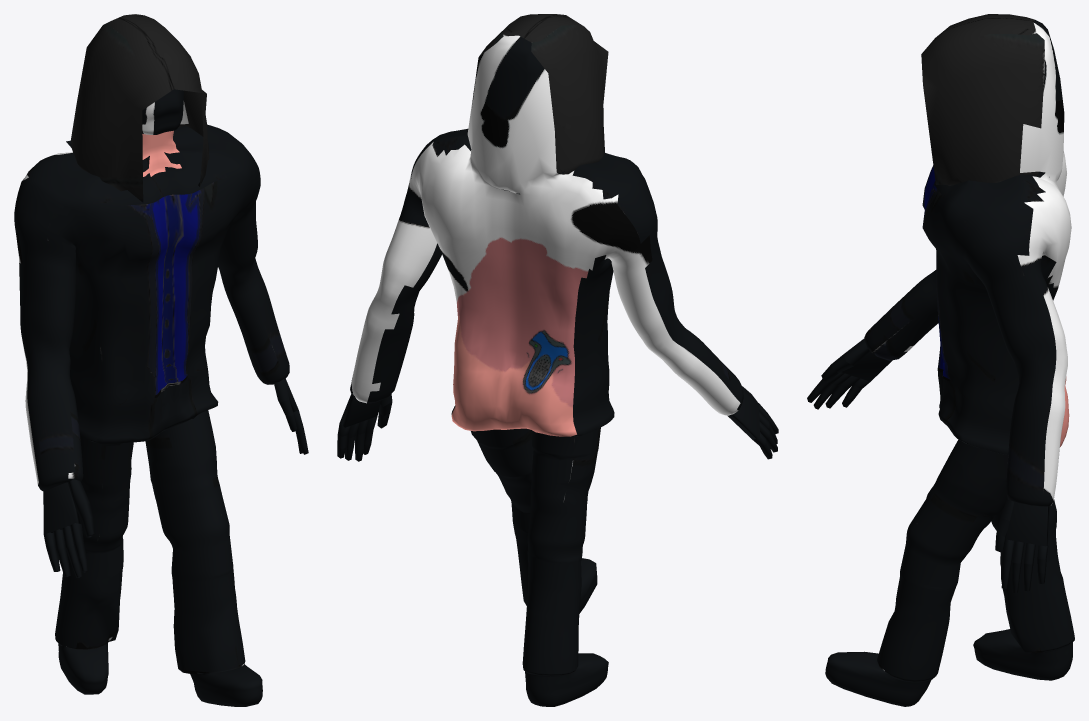
File: keyFrame02.obj
3 views of the same model, side by side, from view 1: azimuth 30°, elevation 25°; view 2: azimuth 150°, elevation 25°; view 3: azimuth 270°, elevation 25° (orthographic). The views are drawn at different scales.
Parts seen in each view (by area): view 1: pasted__polySurface71 group4; view 2: pasted__polySurface71 group4; view 3: pasted__polySurface71 group4.
Boxes of the visible parts, <box> form: pasted__polySurface71 group4: <box>14,14,308,706</box>; pasted__polySurface71 group4: <box>337,14,778,706</box>; pasted__polySurface71 group4: <box>807,14,1074,706</box>.
Bounding box in the file's own units: 6.94 × 12.82 × 4.62.
1 material, 1 textured.
